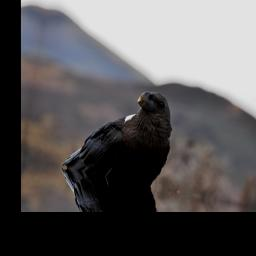Crow: (59, 72, 181, 189)
